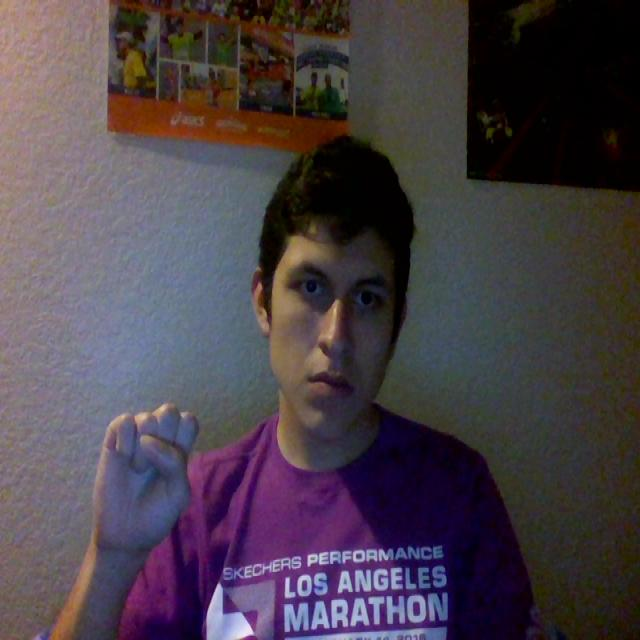S: (67, 363, 214, 583)
